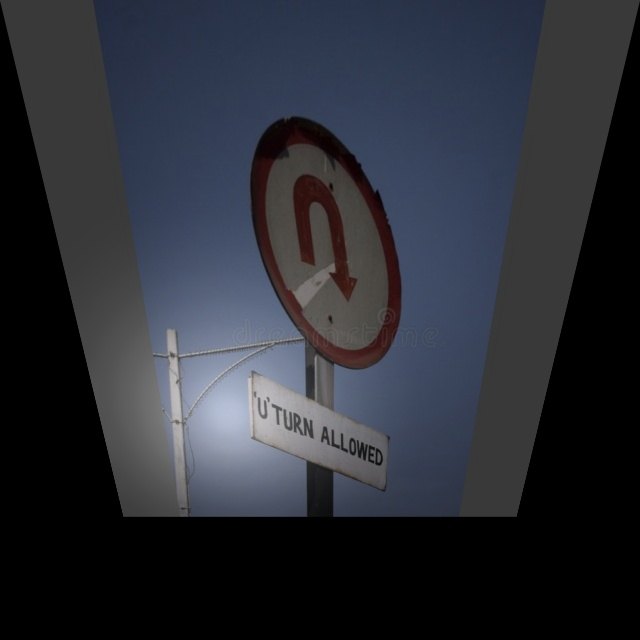U_Turn_Ahead: (247, 100, 437, 370)
